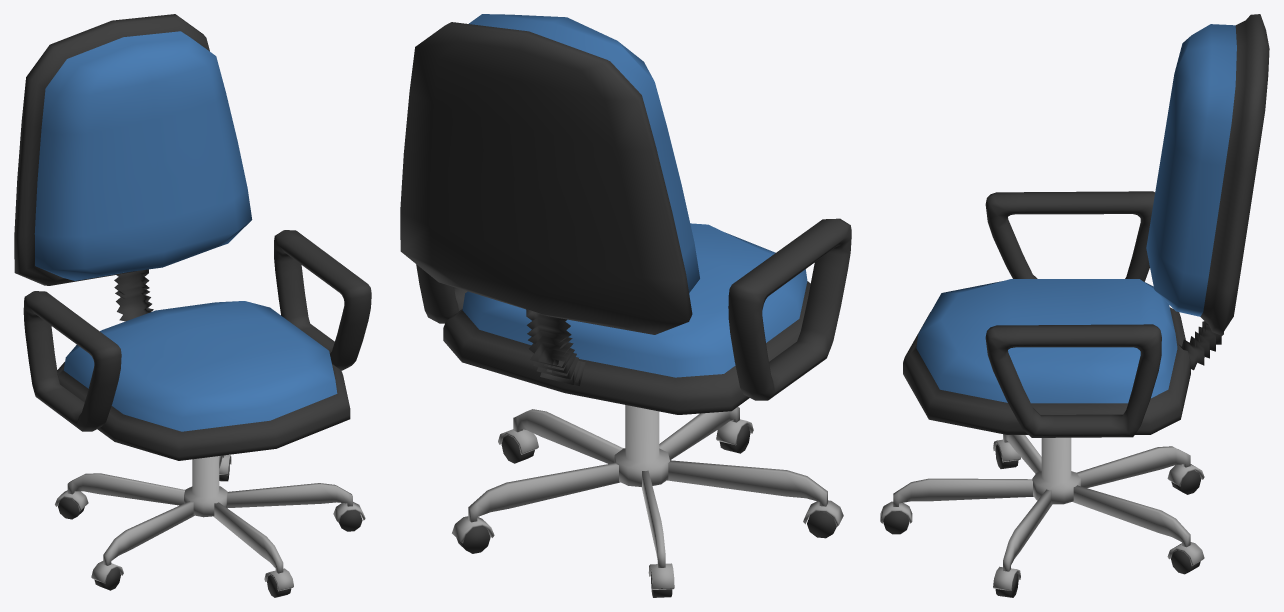
Rendered from OfficeChairShadeSmooth.fbx.
3 renders of one model, left to right at view 1: azimuth 30°, elevation 25°; view 2: azimuth 150°, elevation 25°; view 3: azimuth 270°, elevation 25°, orthographic. The views are drawn at different scales.
Parts seen in each view (by area): view 1: OfficeChair; view 2: OfficeChair; view 3: OfficeChair.
Boxes of the visible parts, x1,y1,x2,y2 form: OfficeChair: [14, 14, 371, 597]; OfficeChair: [400, 14, 851, 597]; OfficeChair: [880, 14, 1269, 597].
Bounding box in the file's own units: 72.17 × 113 × 80.72.
